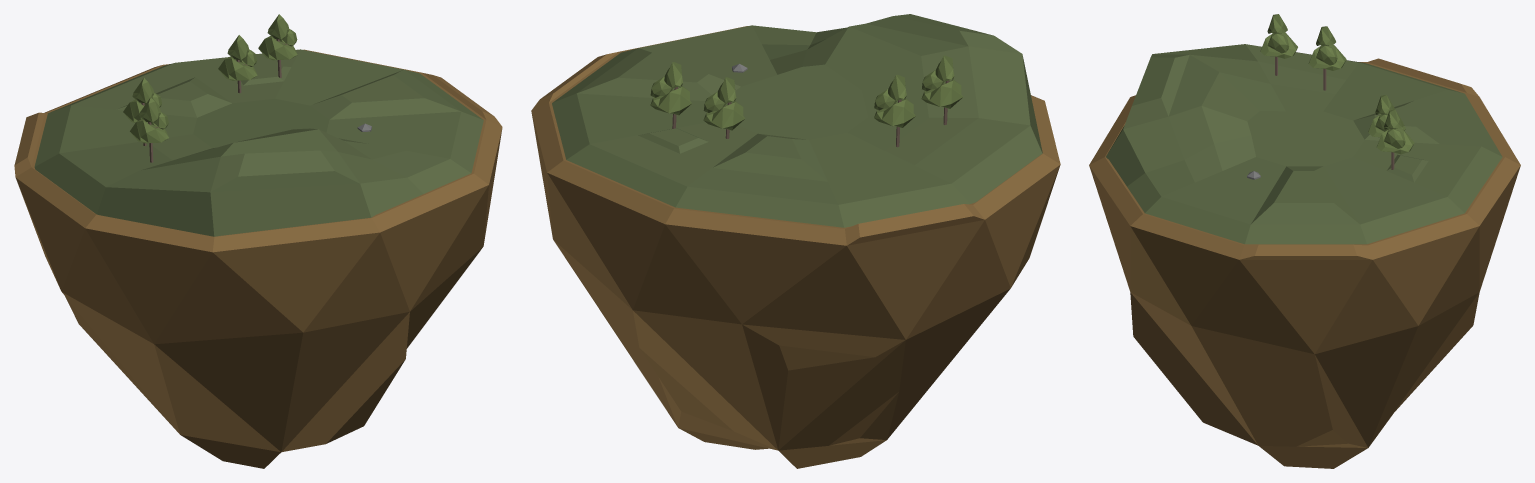
Rendered from plains.glb.
The picture shows the model from 3 angles, left to right: view 1: azimuth 30°, elevation 25°; view 2: azimuth 150°, elevation 25°; view 3: azimuth 270°, elevation 25°; orthographic projection. The views are drawn at different scales.
Parts seen in each view (by area): view 1: planet, planet.001, Tree Type4 01 Model, Tree Type4 01 Model.002, Tree Type4 01 Model.003, Tree Type4 01 Model.001; view 2: planet, planet.001, Tree Type4 01 Model, Tree Type4 01 Model.002, Tree Type4 01 Model.001, Tree Type4 01 Model.003; view 3: planet, planet.001, Tree Type4 01 Model.001, Tree Type4 01 Model.003, Tree Type4 01 Model.002, Tree Type4 01 Model.
Boxes of the visible parts, x1=… form: planet: x1=14, y1=49, x2=502, y2=468; planet.001: x1=34, y1=49, x2=483, y2=236; Tree Type4 01 Model: x1=218, y1=35, x2=257, y2=80; Tree Type4 01 Model.002: x1=130, y1=97, x2=168, y2=143; Tree Type4 01 Model.003: x1=258, y1=14, x2=297, y2=60; Tree Type4 01 Model.001: x1=123, y1=78, x2=161, y2=122; planet: x1=531, y1=26, x2=1060, y2=468; planet.001: x1=552, y1=14, x2=1042, y2=227; Tree Type4 01 Model: x1=703, y1=77, x2=745, y2=130; Tree Type4 01 Model.002: x1=921, y1=55, x2=962, y2=108; Tree Type4 01 Model.001: x1=874, y1=74, x2=915, y2=127; Tree Type4 01 Model.003: x1=650, y1=62, x2=691, y2=115; planet: x1=1089, y1=58, x2=1520, y2=468; planet.001: x1=1106, y1=44, x2=1502, y2=244; Tree Type4 01 Model.001: x1=1308, y1=26, x2=1346, y2=70; Tree Type4 01 Model.003: x1=1377, y1=109, x2=1414, y2=154; Tree Type4 01 Model.002: x1=1260, y1=14, x2=1297, y2=58; Tree Type4 01 Model: x1=1368, y1=95, x2=1405, y2=137.
Size of the model in its own units: 2.8 by 2.5 by 2.62.
